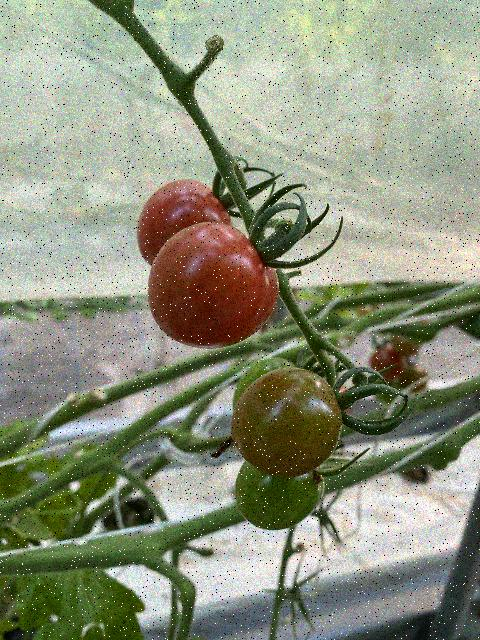l_fully_ripened: (147, 222, 279, 349), (136, 179, 231, 266)
l_green: (235, 460, 325, 530), (234, 357, 298, 409)
l_half_ripened: (230, 367, 343, 478)
